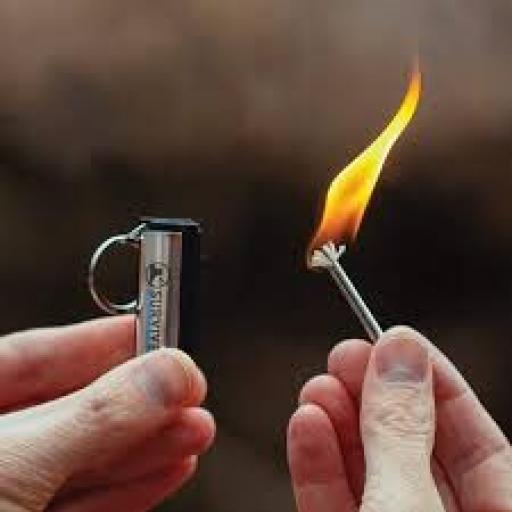fire: (307, 59, 416, 266)
